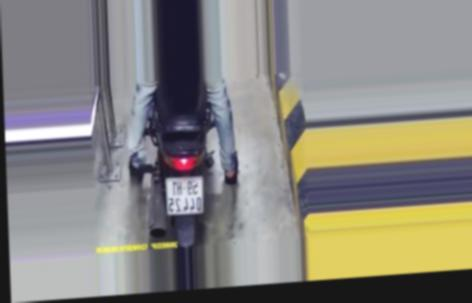License_Plate: (162, 174, 209, 217)
